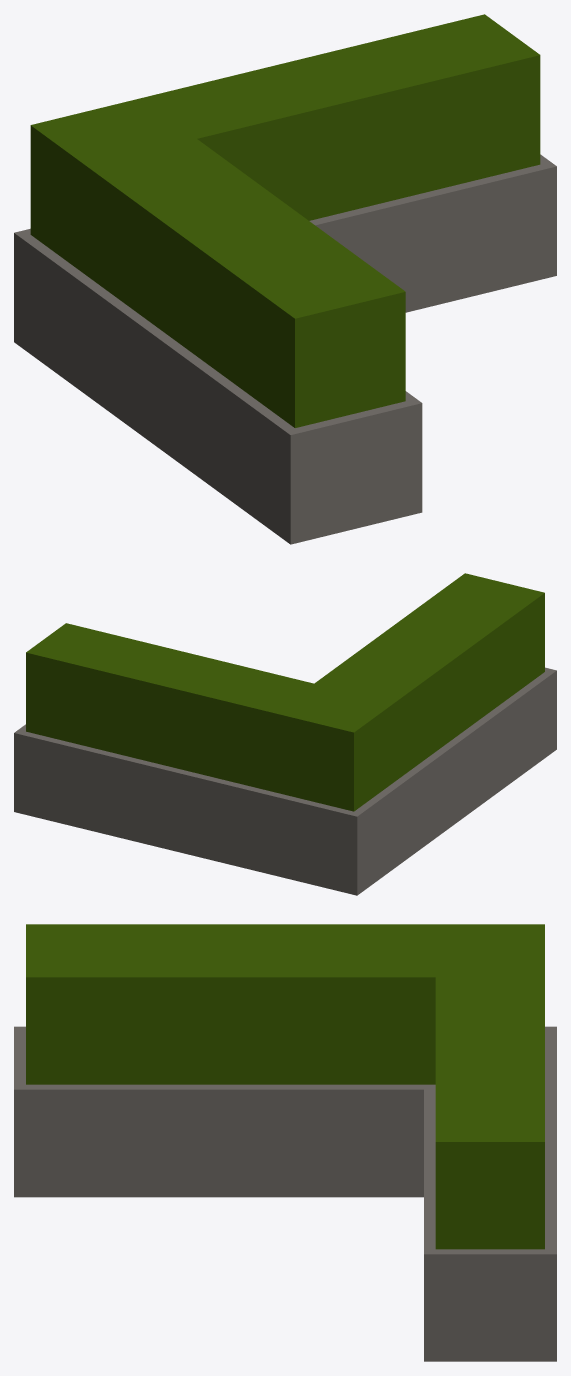
File: dec plant6.FBX
The picture shows the model from 3 angles, top to bottom: view 1: azimuth 30°, elevation 25°; view 2: azimuth 150°, elevation 25°; view 3: azimuth 270°, elevation 25°; orthographic projection. The views are drawn at different scales.
Visible parts, largest first — view 1: dec plant6; view 2: dec plant6; view 3: dec plant6.
Boxes of the visible parts, x1,y1,x2,y2 form: dec plant6: (14, 14, 556, 544); dec plant6: (14, 573, 556, 895); dec plant6: (14, 924, 556, 1361).
Bounding box in the file's own units: 4.96 × 2.18 × 5.
